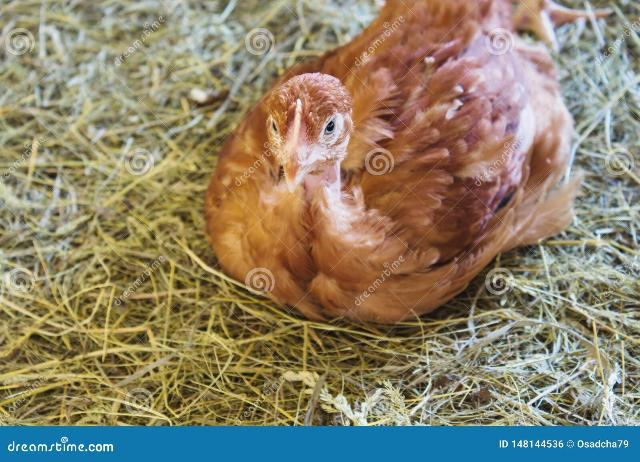Chicken: (203, 3, 582, 326)
